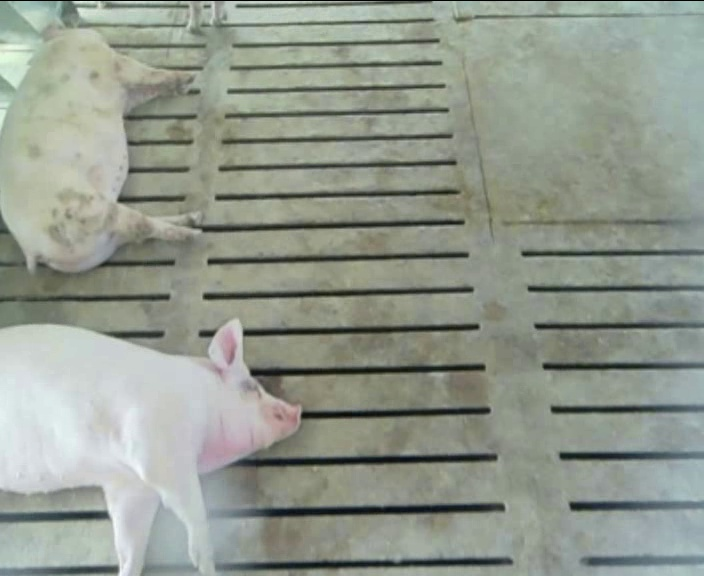pig: (0, 319, 300, 574), (0, 17, 200, 271)
